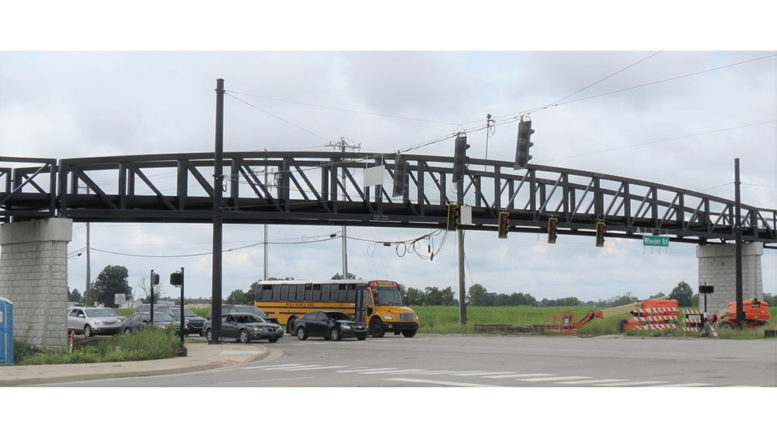bridge: (2, 150, 777, 247)
